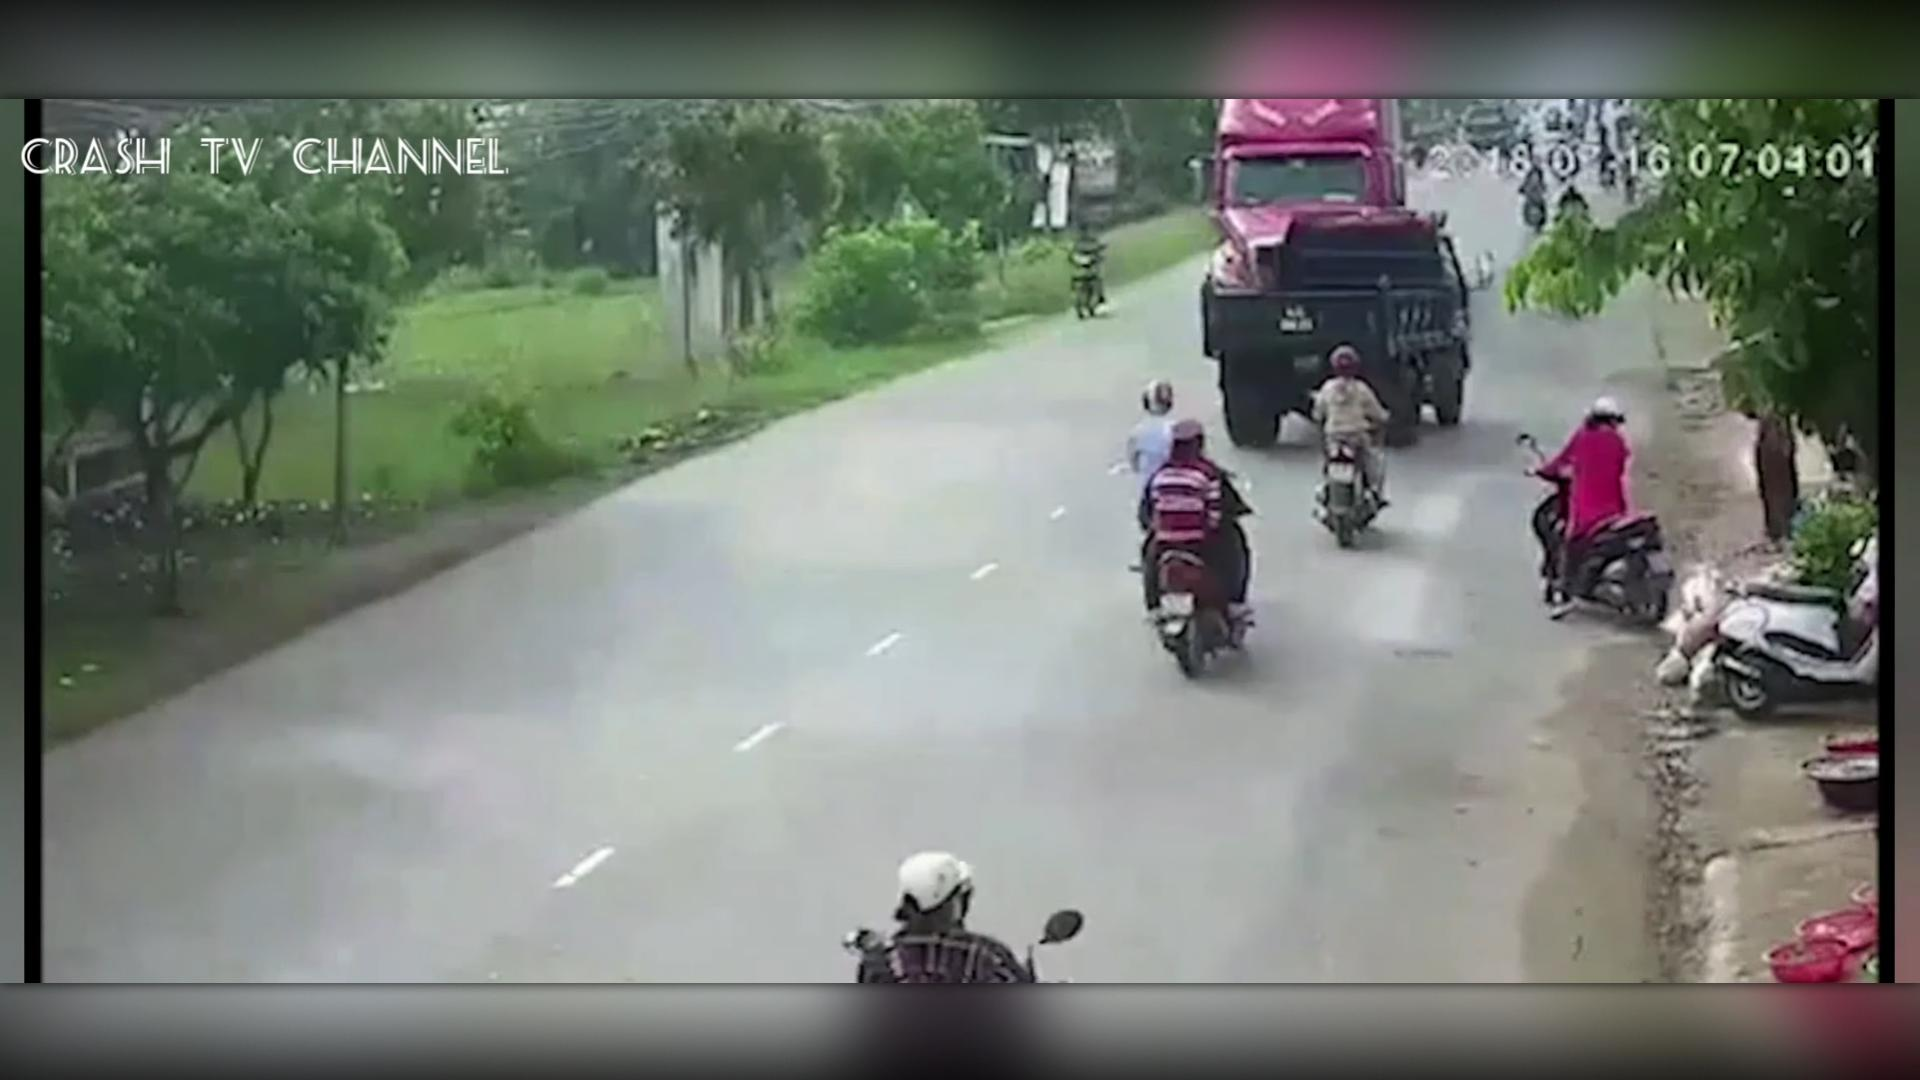motorcycle: (1122, 382, 1282, 696), (1505, 386, 1695, 625), (1312, 342, 1386, 568), (1060, 210, 1114, 324)
truck: (1187, 207, 1495, 448), (1187, 104, 1424, 265)
